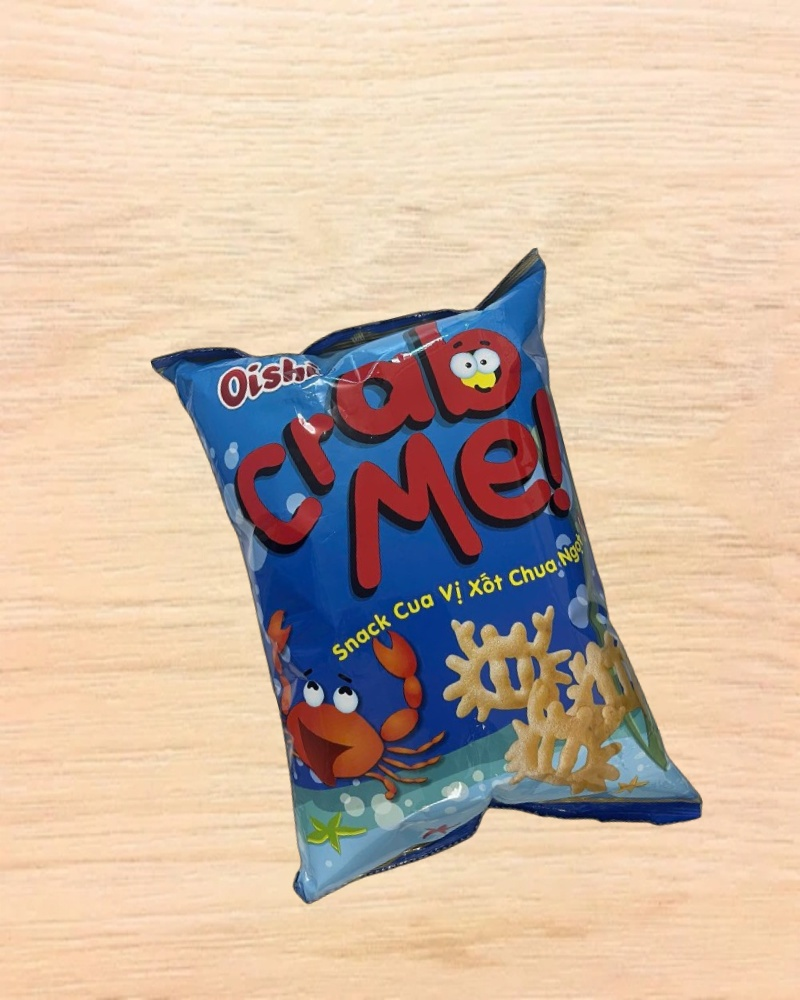Snack cua: (149, 244, 705, 918)
